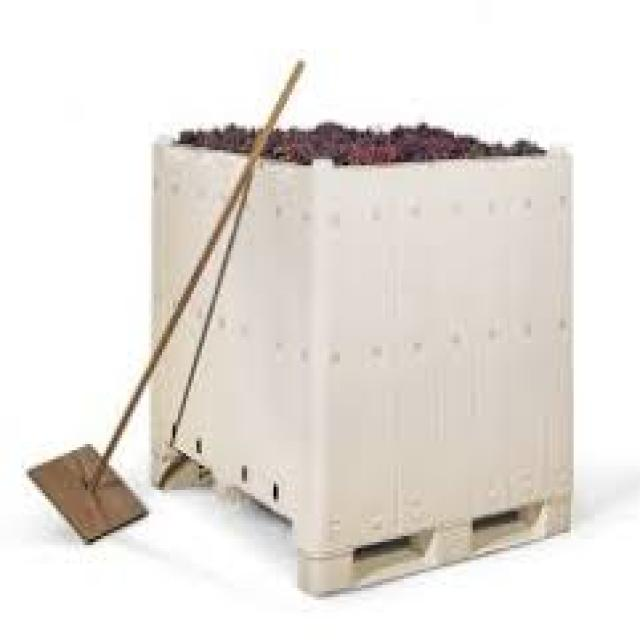basket: (154, 144, 243, 338)
